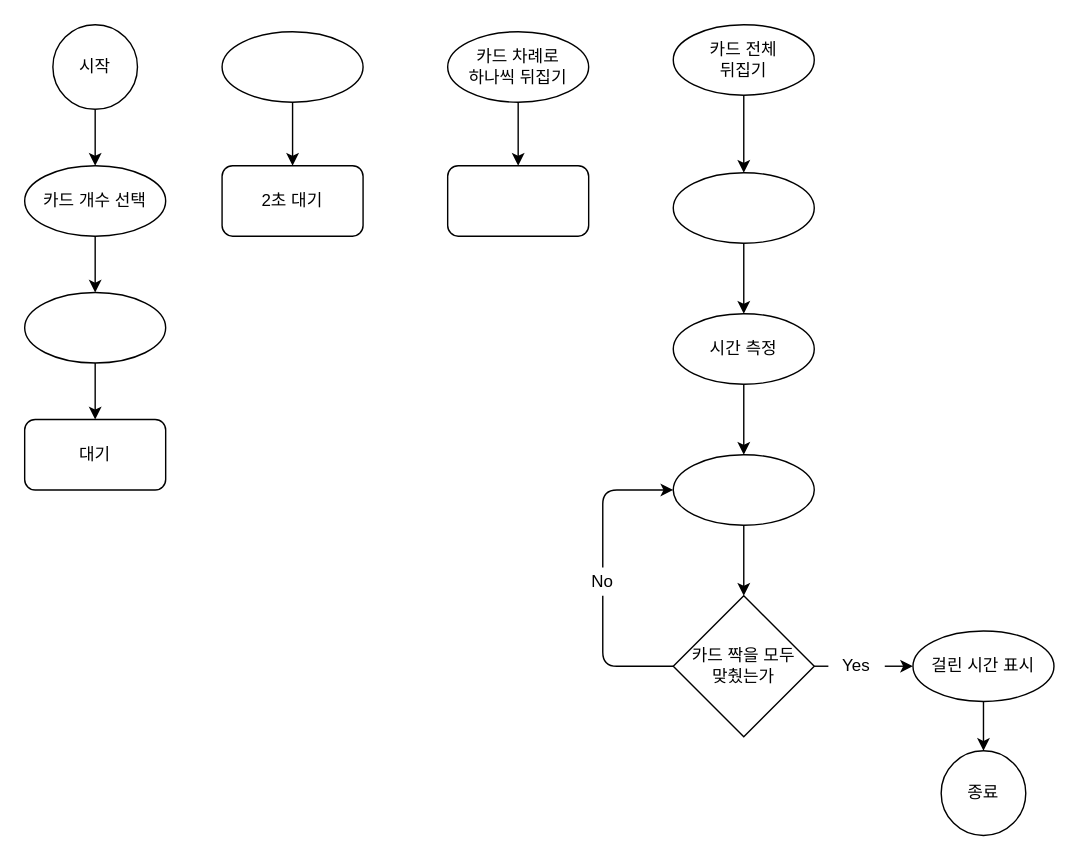
Image size: 1079x860. Some labels were removed from this diagram. Each missing label, with the centre of its shape:
"게임 시작 버튼 클릭" goes at pixel 94 327.
"다 뒤집은 후 5초 대기" goes at pixel 517 200.
"카드 개수만큼 뒤집어서 화면에 배치" goes at pixel 292 66.
"카드 이벤트" goes at pixel 743 207.
"카드 짝 맞추기" goes at pixel 743 489.
